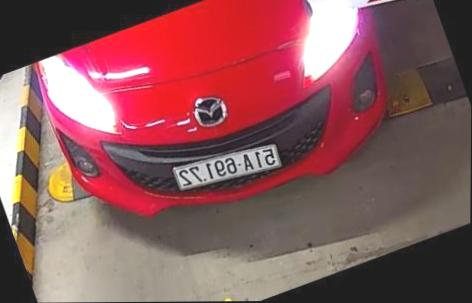License_Plate: (169, 133, 282, 198)
